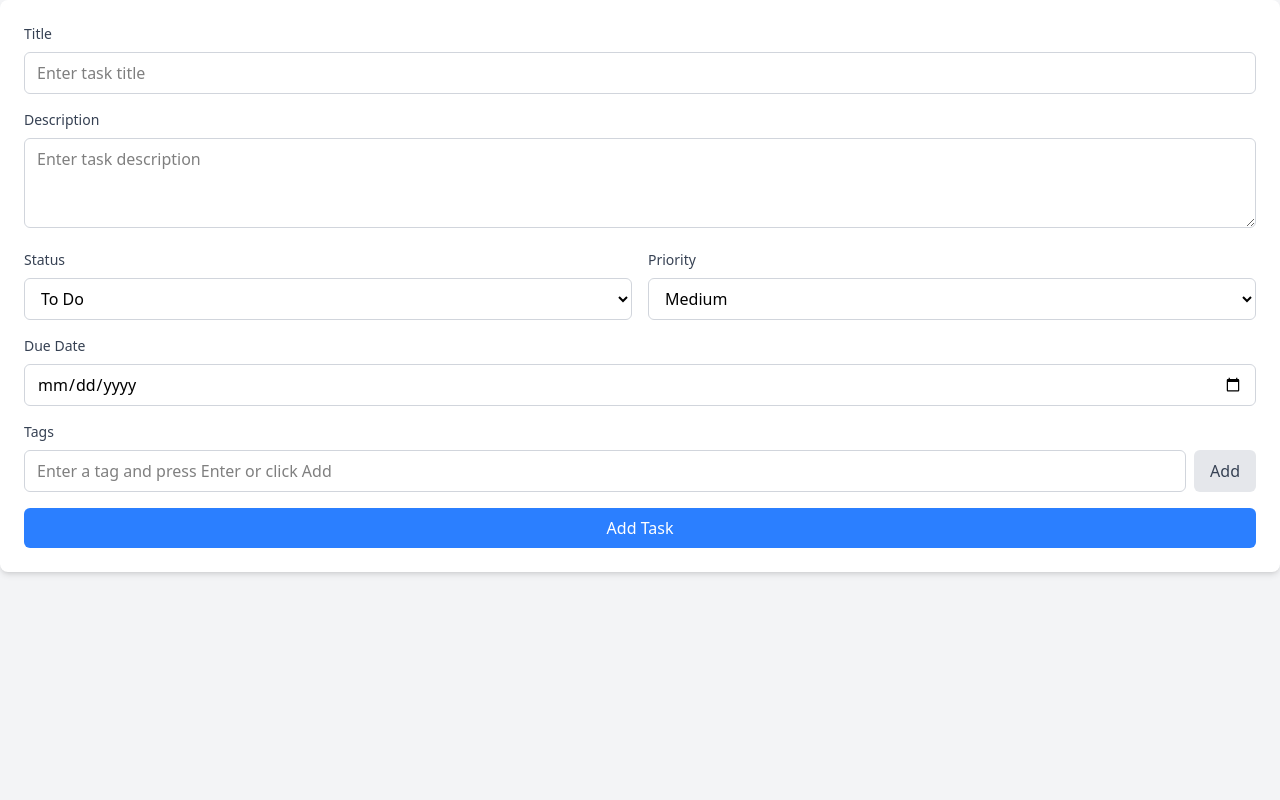
Test: TaskForm › should remove tag when remove button is clicked
The image size is (1280, 800).
# Add a tag
Type "urgent" into the field labelled "Tags". click: (605, 471)
box: [24, 450, 1186, 492]
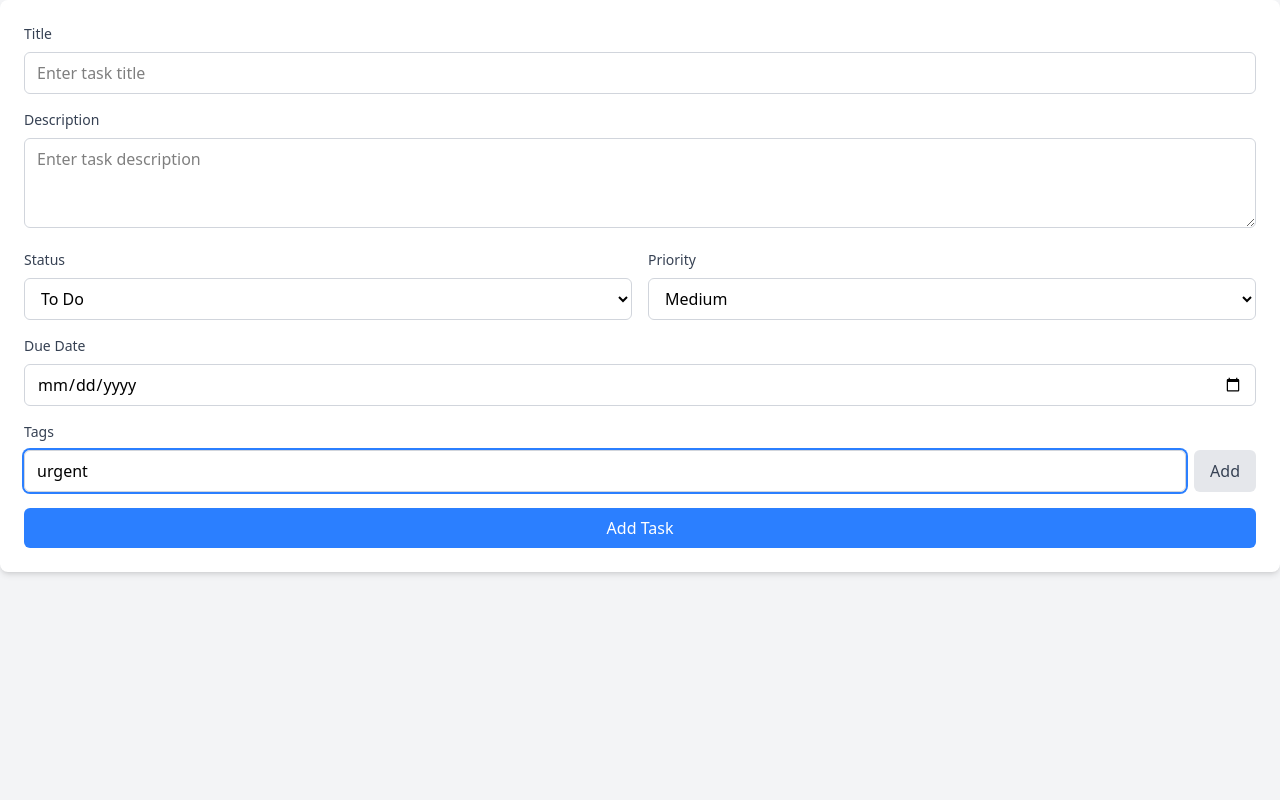
Click the button "Add". click: (1225, 471)
box: [1194, 450, 1256, 492]
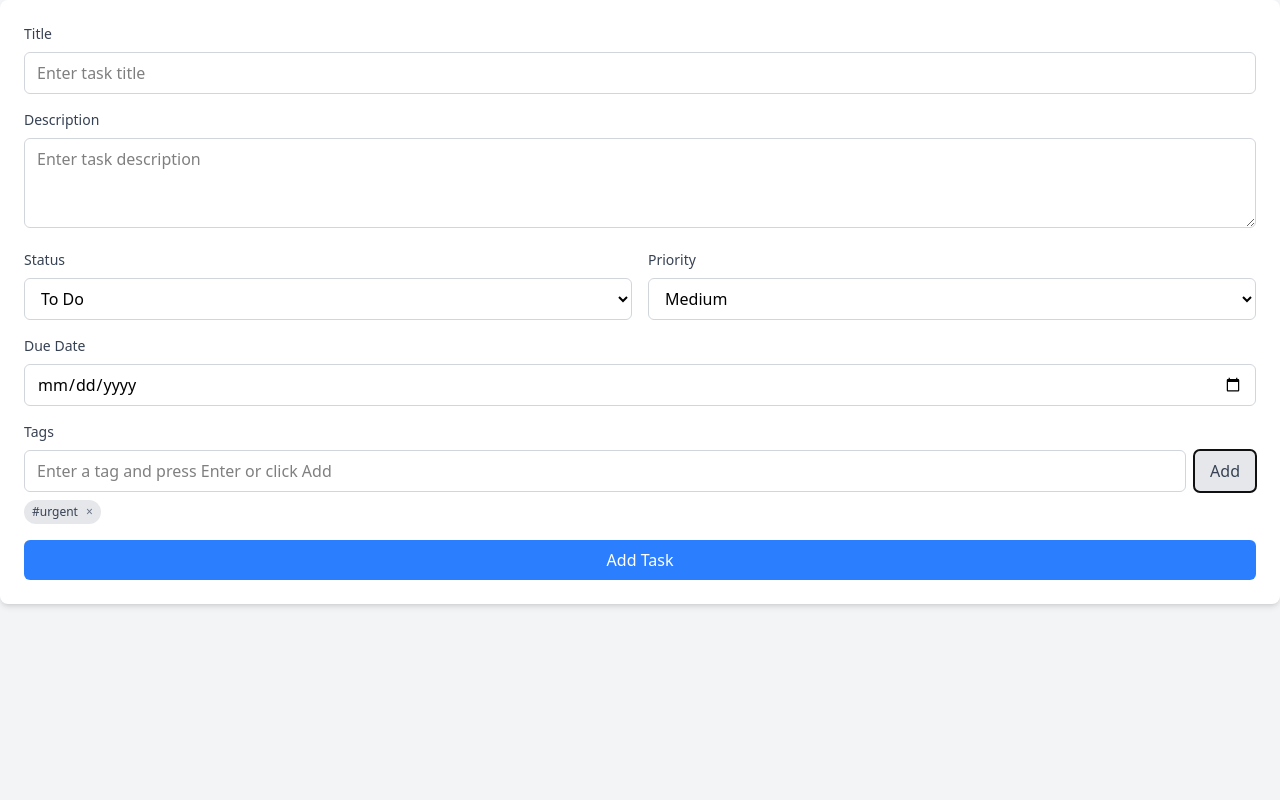
Expected: the text "#urgent" is shown, [24, 500, 101, 524]
# Remove the tag
Click the button named "remove tag urgent". click: (89, 512)
box: [86, 504, 93, 520]
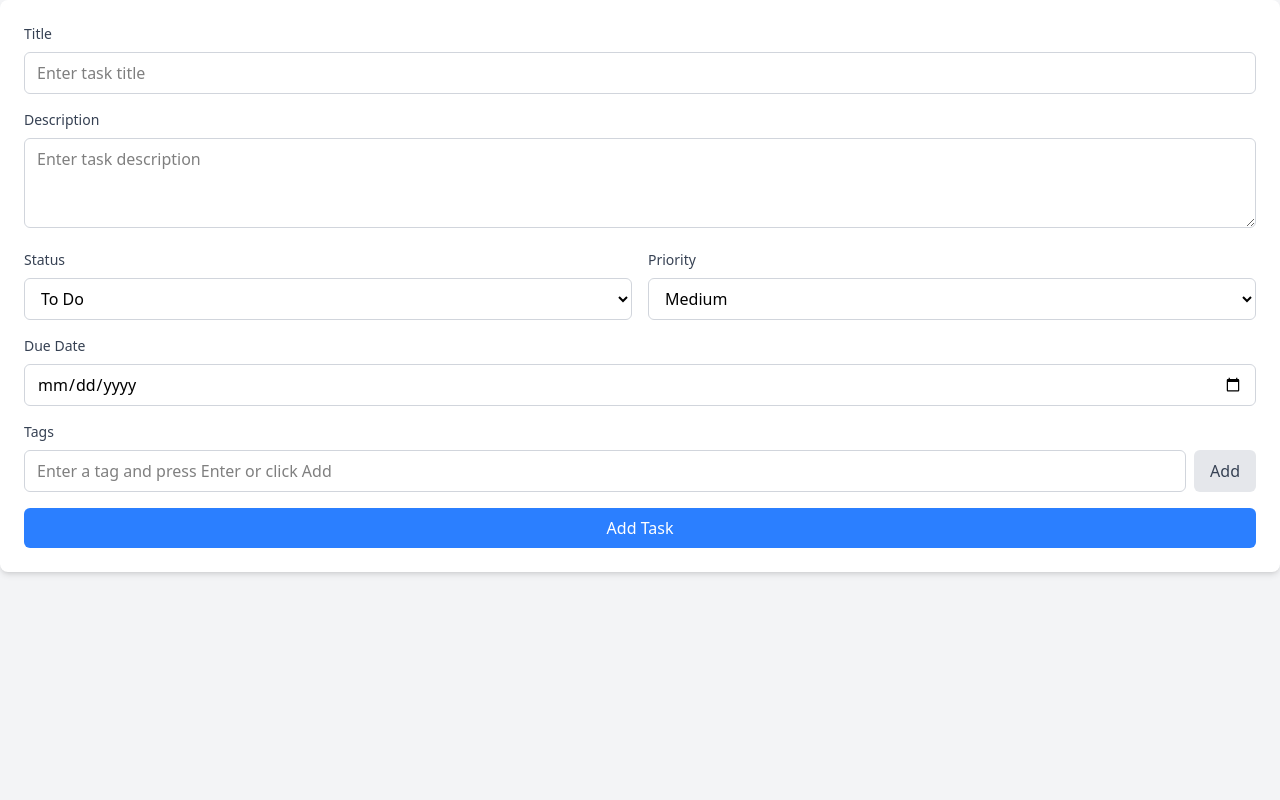
Expected: the text "#urgent" is gone
